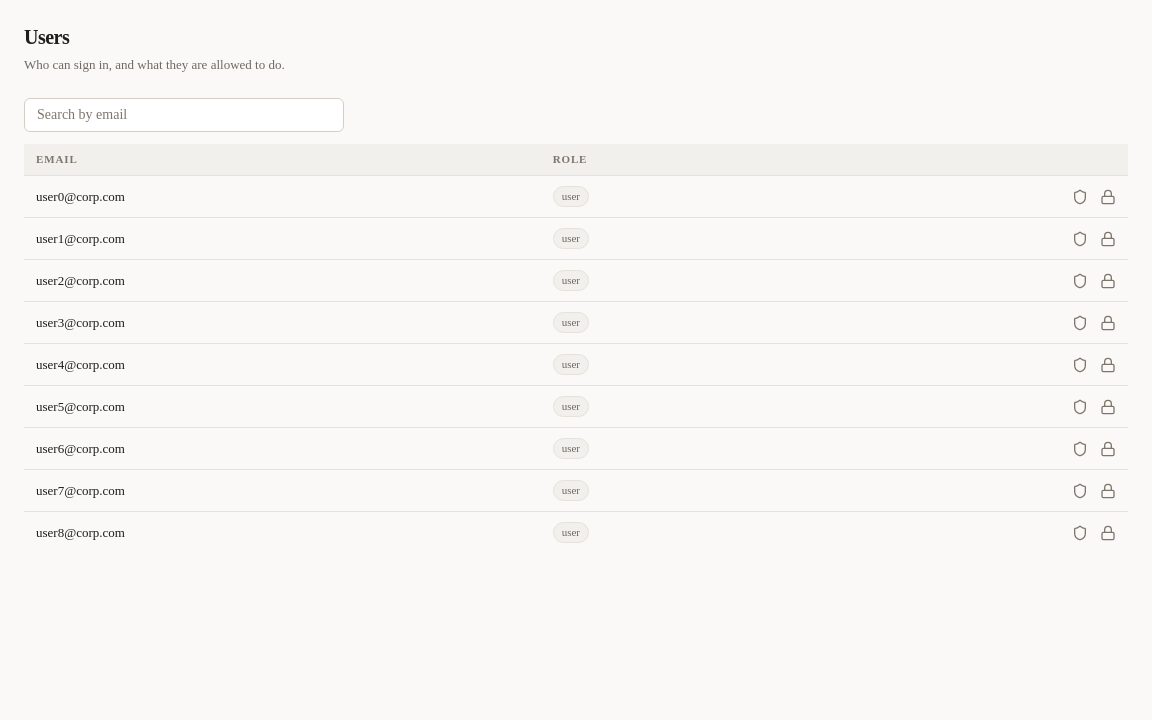
it: UsersManager › distinguishes a filter that matched nothing from an empty list
The image size is (1152, 720).
Step 1. Type "nobody" into the field named "Search accounts" → (184, 115), box left=24, top=98, right=344, bottom=132
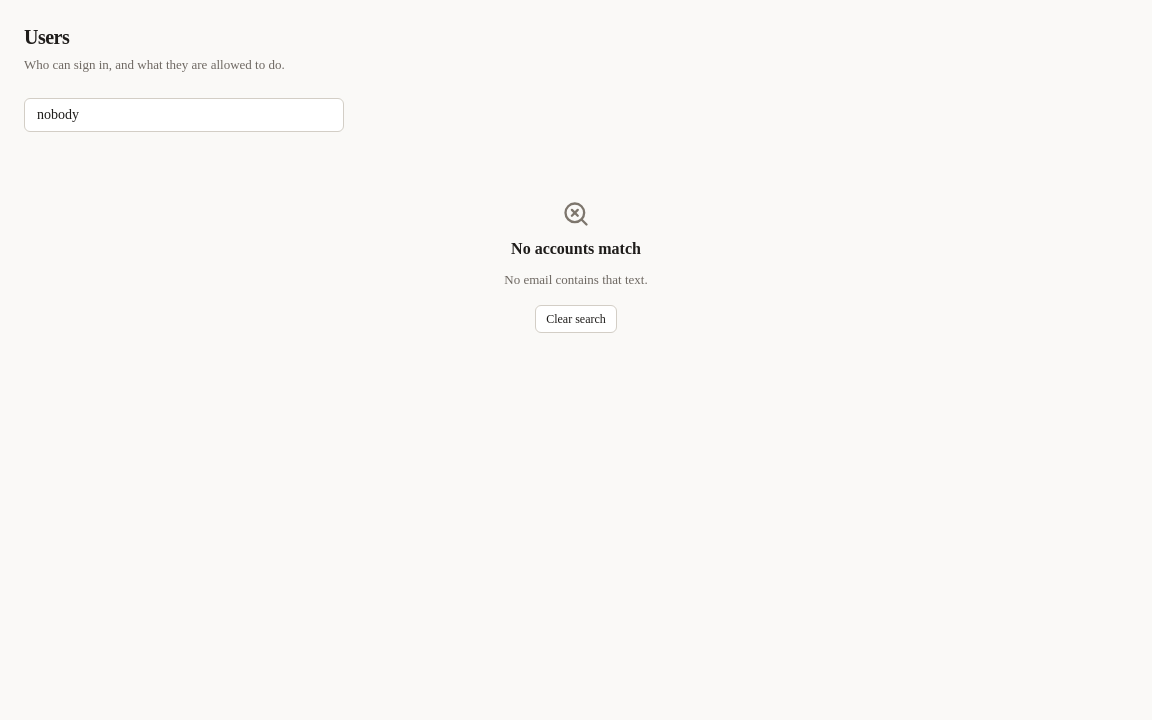
Expected: the text "No accounts match" is shown, left=511, top=236, right=641, bottom=262
